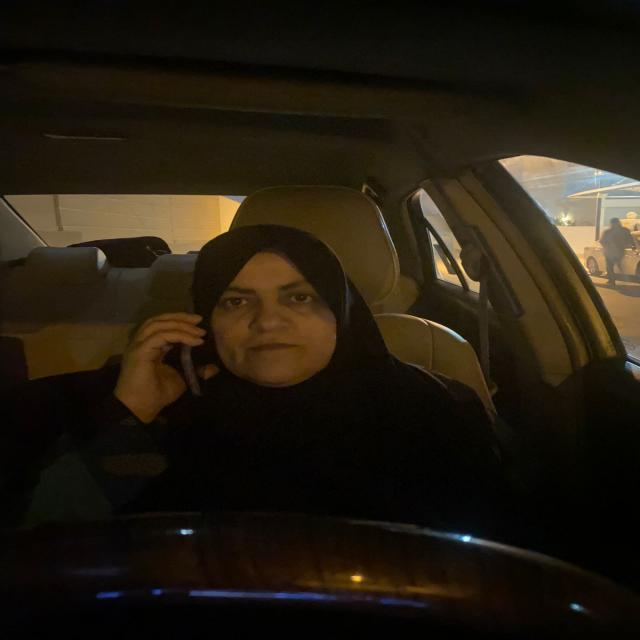mobile: (185, 311, 234, 409)
person: (210, 239, 349, 393)
